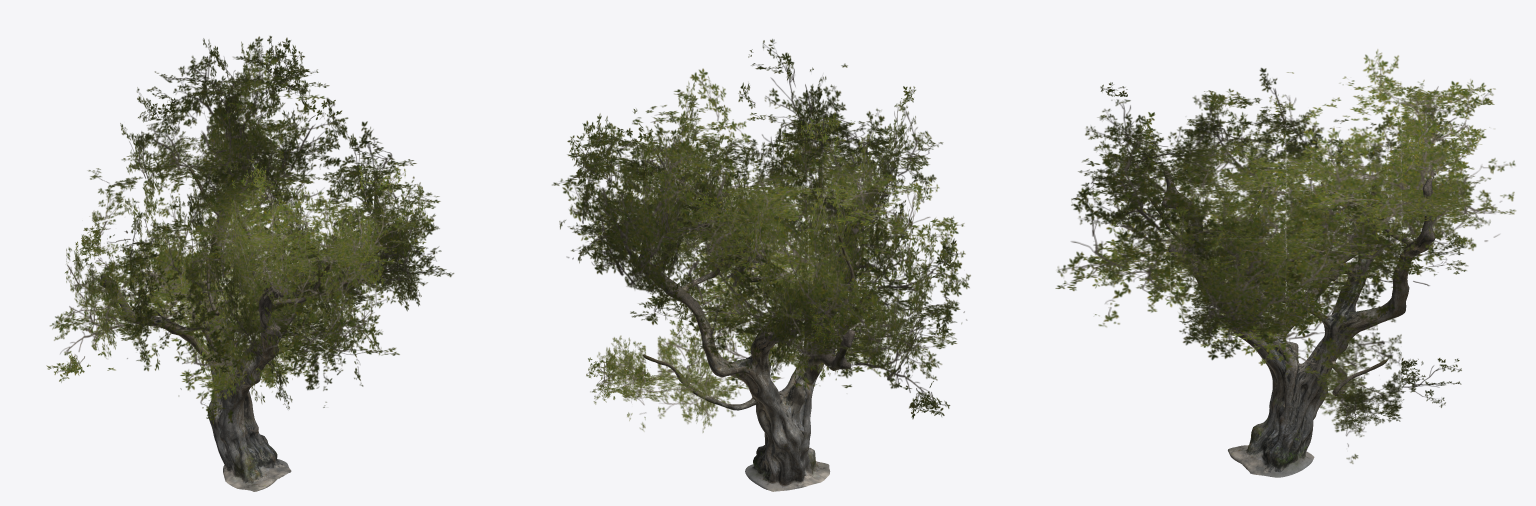
File: coastal-tree.glb
3 views of the same model, side by side, from view 1: azimuth 30°, elevation 25°; view 2: azimuth 150°, elevation 25°; view 3: azimuth 270°, elevation 25° (orthographic). The views are drawn at different scales.
Visible parts, largest first — view 1: coastal-leaves-lod0, coastal-tree-lod0; view 2: coastal-leaves-lod0, coastal-tree-lod0; view 3: coastal-leaves-lod0, coastal-tree-lod0.
Boxes of the visible parts, box(x1,y1,x2,y2) form: coastal-leaves-lod0: box(46, 36, 453, 424); coastal-tree-lod0: box(99, 135, 379, 491); coastal-leaves-lod0: box(552, 39, 970, 432); coastal-tree-lod0: box(633, 168, 878, 491); coastal-leaves-lod0: box(1055, 49, 1515, 463); coastal-tree-lod0: box(1150, 162, 1435, 477).
Size of what is drawn, in the model's own units: 8.27 by 8.68 by 8.31.
4 materials, 4 textured.
